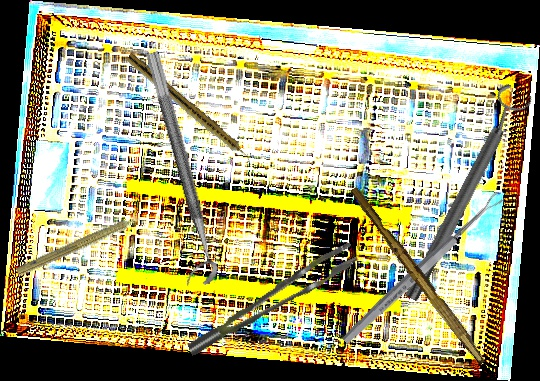Fixation Ring: (392, 81, 537, 307), (126, 50, 222, 290)
Handpiece: (123, 52, 255, 166), (14, 207, 152, 283)
Scalpel Handle: (345, 185, 492, 366)
Surgical Spoon: (339, 191, 505, 347)
Tissue Forceps: (176, 242, 366, 356)
